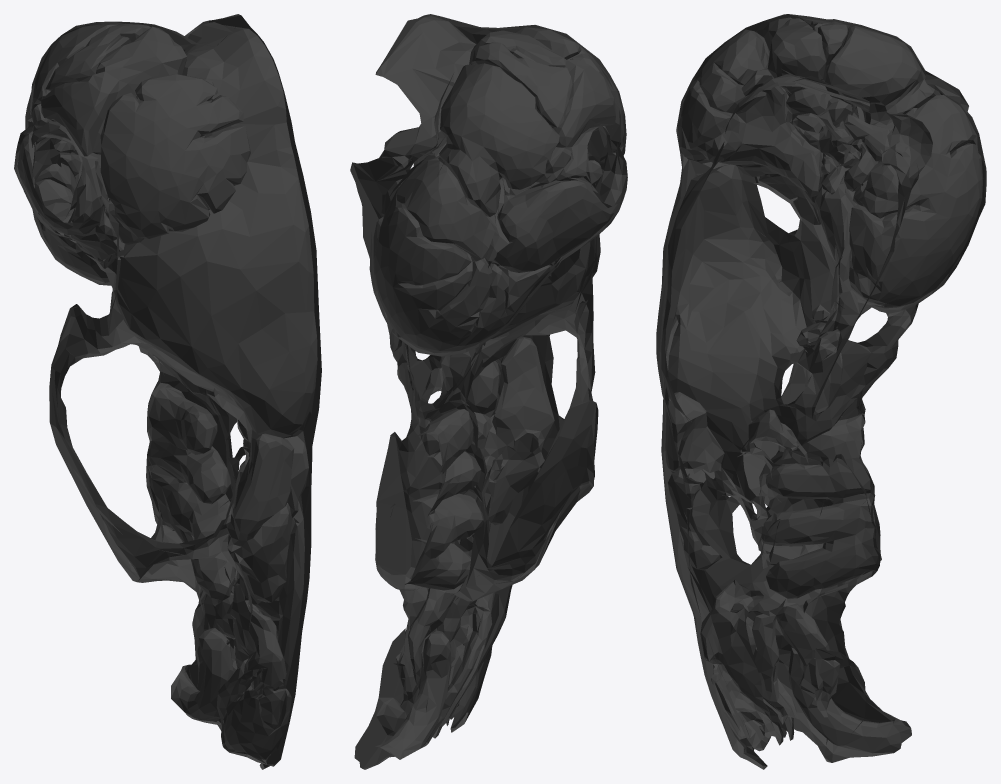
Rendered from CRANIUM_R_DECIMATED.glb.
3 views of the same model, side by side, from view 1: azimuth 30°, elevation 25°; view 2: azimuth 150°, elevation 25°; view 3: azimuth 270°, elevation 25° (orthographic). The views are drawn at different scales.
Parts seen in each view (by area): view 1: CRANIUM_R_DECIMATED; view 2: CRANIUM_R_DECIMATED; view 3: CRANIUM_R_DECIMATED.
Boxes of the visible parts, bbox=[...] form: CRANIUM_R_DECIMATED: bbox=[14, 14, 321, 769]; CRANIUM_R_DECIMATED: bbox=[350, 14, 627, 769]; CRANIUM_R_DECIMATED: bbox=[656, 14, 986, 769].
Bounding box in the file's own units: 0.00711 × 0.0247 × 0.0106.
1 material, 1 textured.
